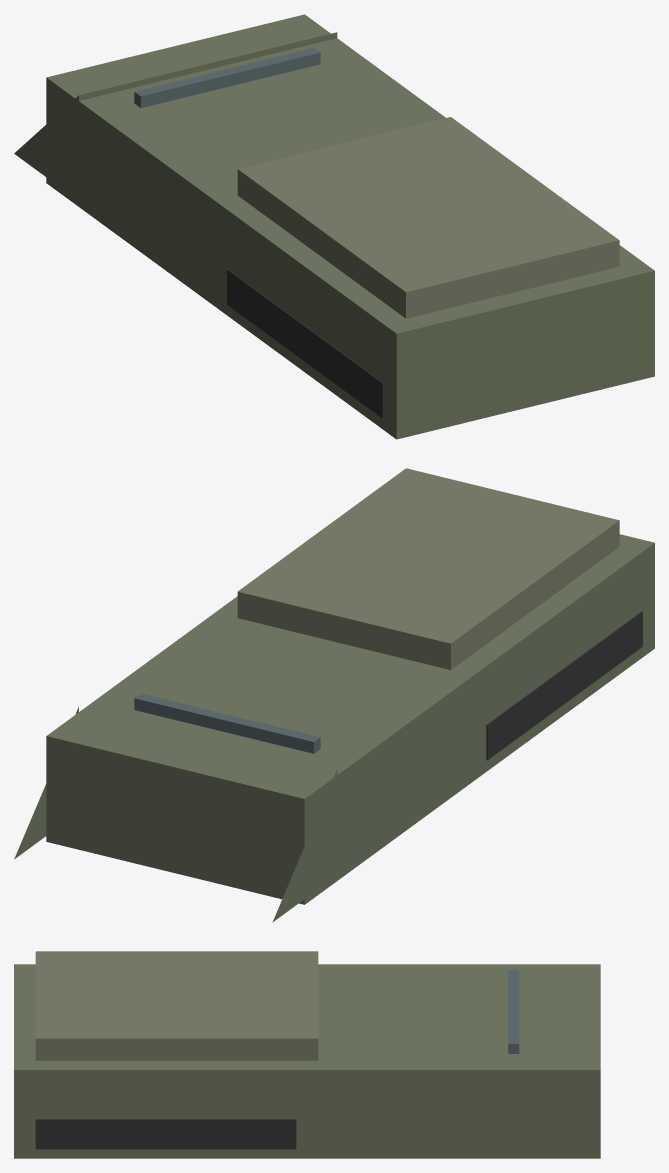
Rendered from v_brdm2.glb.
3 views of the same model, one above another, from view 1: azimuth 30°, elevation 25°; view 2: azimuth 150°, elevation 25°; view 3: azimuth 270°, elevation 25° (orthographic). The views are drawn at different scales.
Parts seen in each view (by area): view 1: body; view 2: body; view 3: body.
Part boxes in pixels (x1,y1,x2,y2): body: (14,14,654,439); body: (14,468,654,922); body: (14,951,600,1158).
Bounding box in the file's own units: 2.32 × 1.12 × 5.9.
